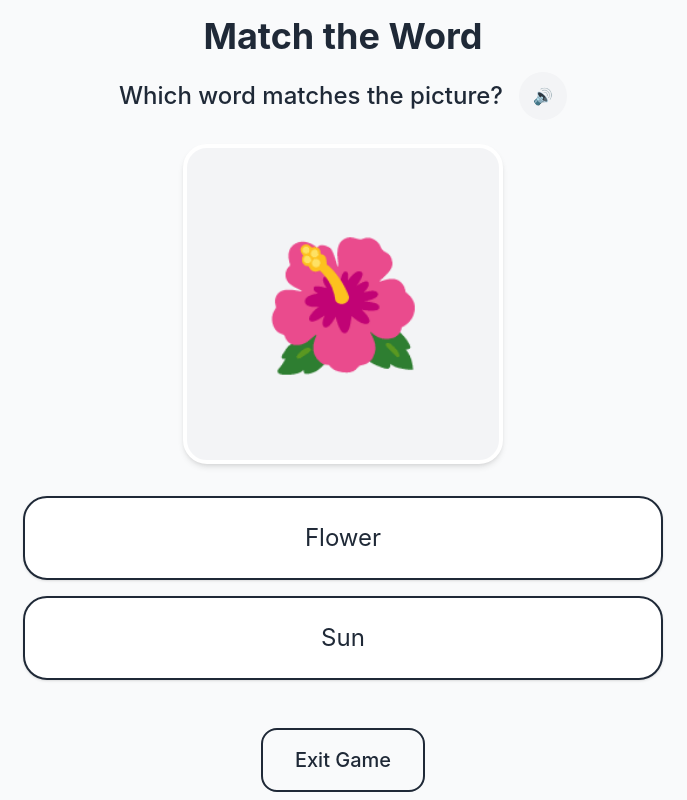
Language Exercises Game › handles correct answer and progresses
The image size is (687, 800).
Expected: the heading "Match the Word" is shown, [203, 16, 483, 56]
# Pick the first option, if it's right it advances. We are just verifying it doesn't crash here.
Click the button "Flower". click: [343, 538]
box: [23, 496, 663, 580]
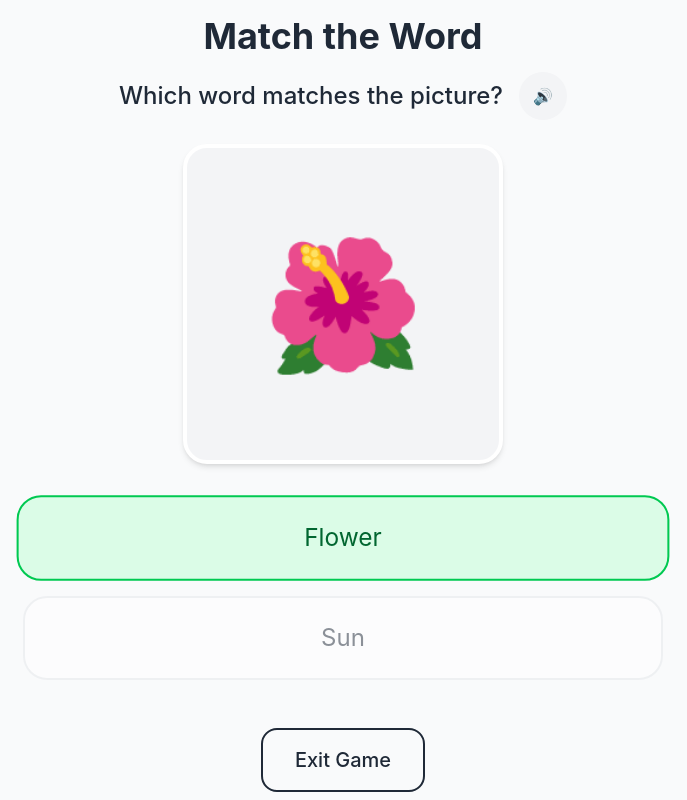
Now the button "Flower" is disabled, box [17, 495, 669, 581]
